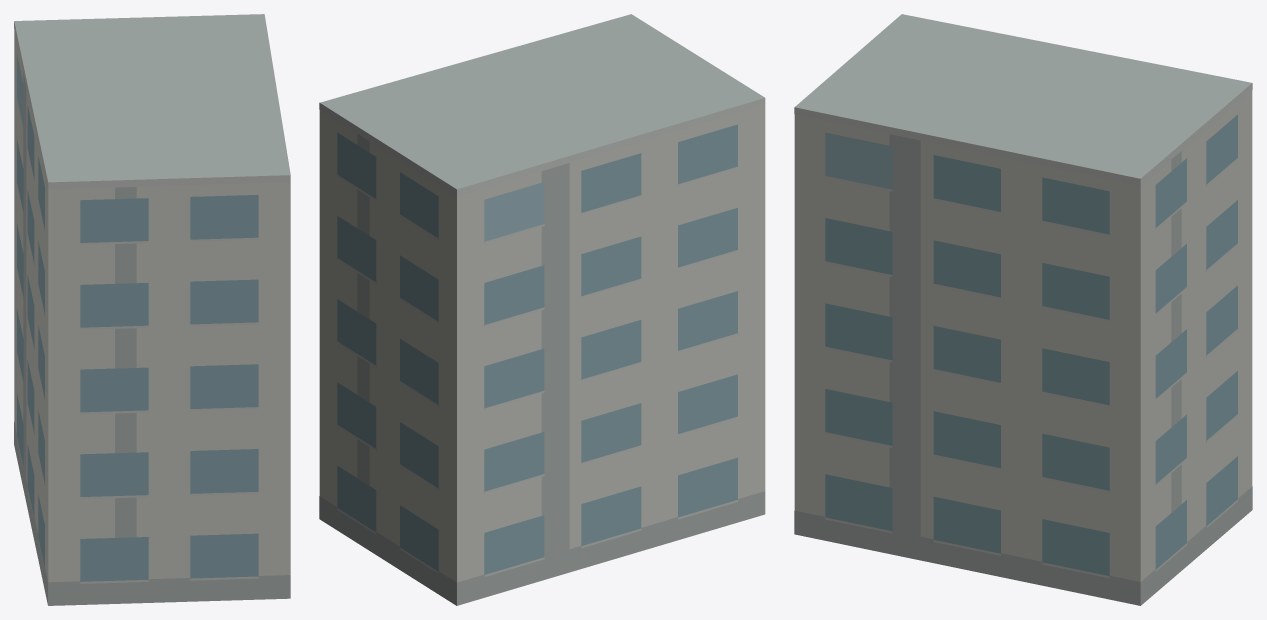
File: survey-upis-32727125.glb
The picture shows the model from 3 angles, left to right: view 1: azimuth 30°, elevation 25°; view 2: azimuth 150°, elevation 25°; view 3: azimuth 270°, elevation 25°; orthographic projection. The views are drawn at different scales.
Visible parts, largest first — view 1: survey-upis-32727125.tmp; view 2: survey-upis-32727125.tmp; view 3: survey-upis-32727125.tmp.
Boxes of the visible parts, bbox=[...] form: survey-upis-32727125.tmp: bbox=[14, 14, 290, 605]; survey-upis-32727125.tmp: bbox=[319, 14, 765, 605]; survey-upis-32727125.tmp: bbox=[794, 14, 1252, 605].
Bounding box in the file's own units: 12.01 × 14.5 × 14.1.
